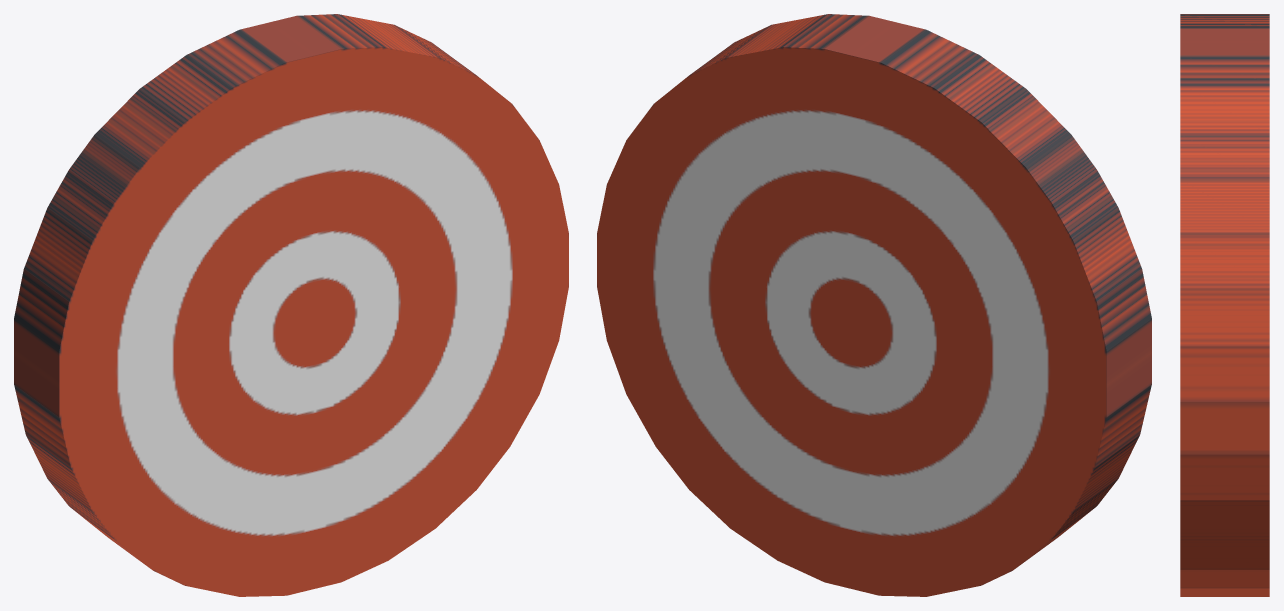
Rendered from powerup-range-model.fbx.
3 views of the same model, side by side, from view 1: azimuth 30°, elevation 25°; view 2: azimuth 150°, elevation 25°; view 3: azimuth 270°, elevation 25° (orthographic).
Parts seen in each view (by area): view 1: Object.002; view 2: Object.002; view 3: Object.002.
Boxes of the visible parts, x1,y1,x2,y2 form: Object.002: (14,14,568,596); Object.002: (597,14,1151,596); Object.002: (1180,14,1269,596).
Bounding box in the file's own units: 6604 × 6604 × 1016.
